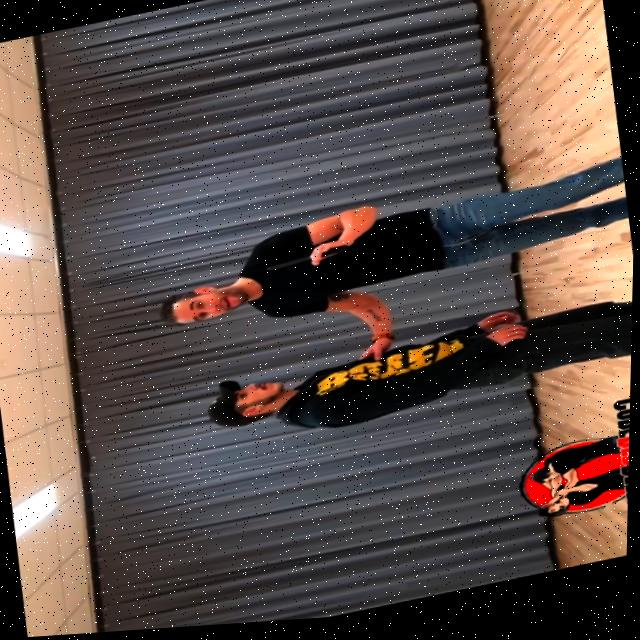knife: (267, 259, 314, 274)
